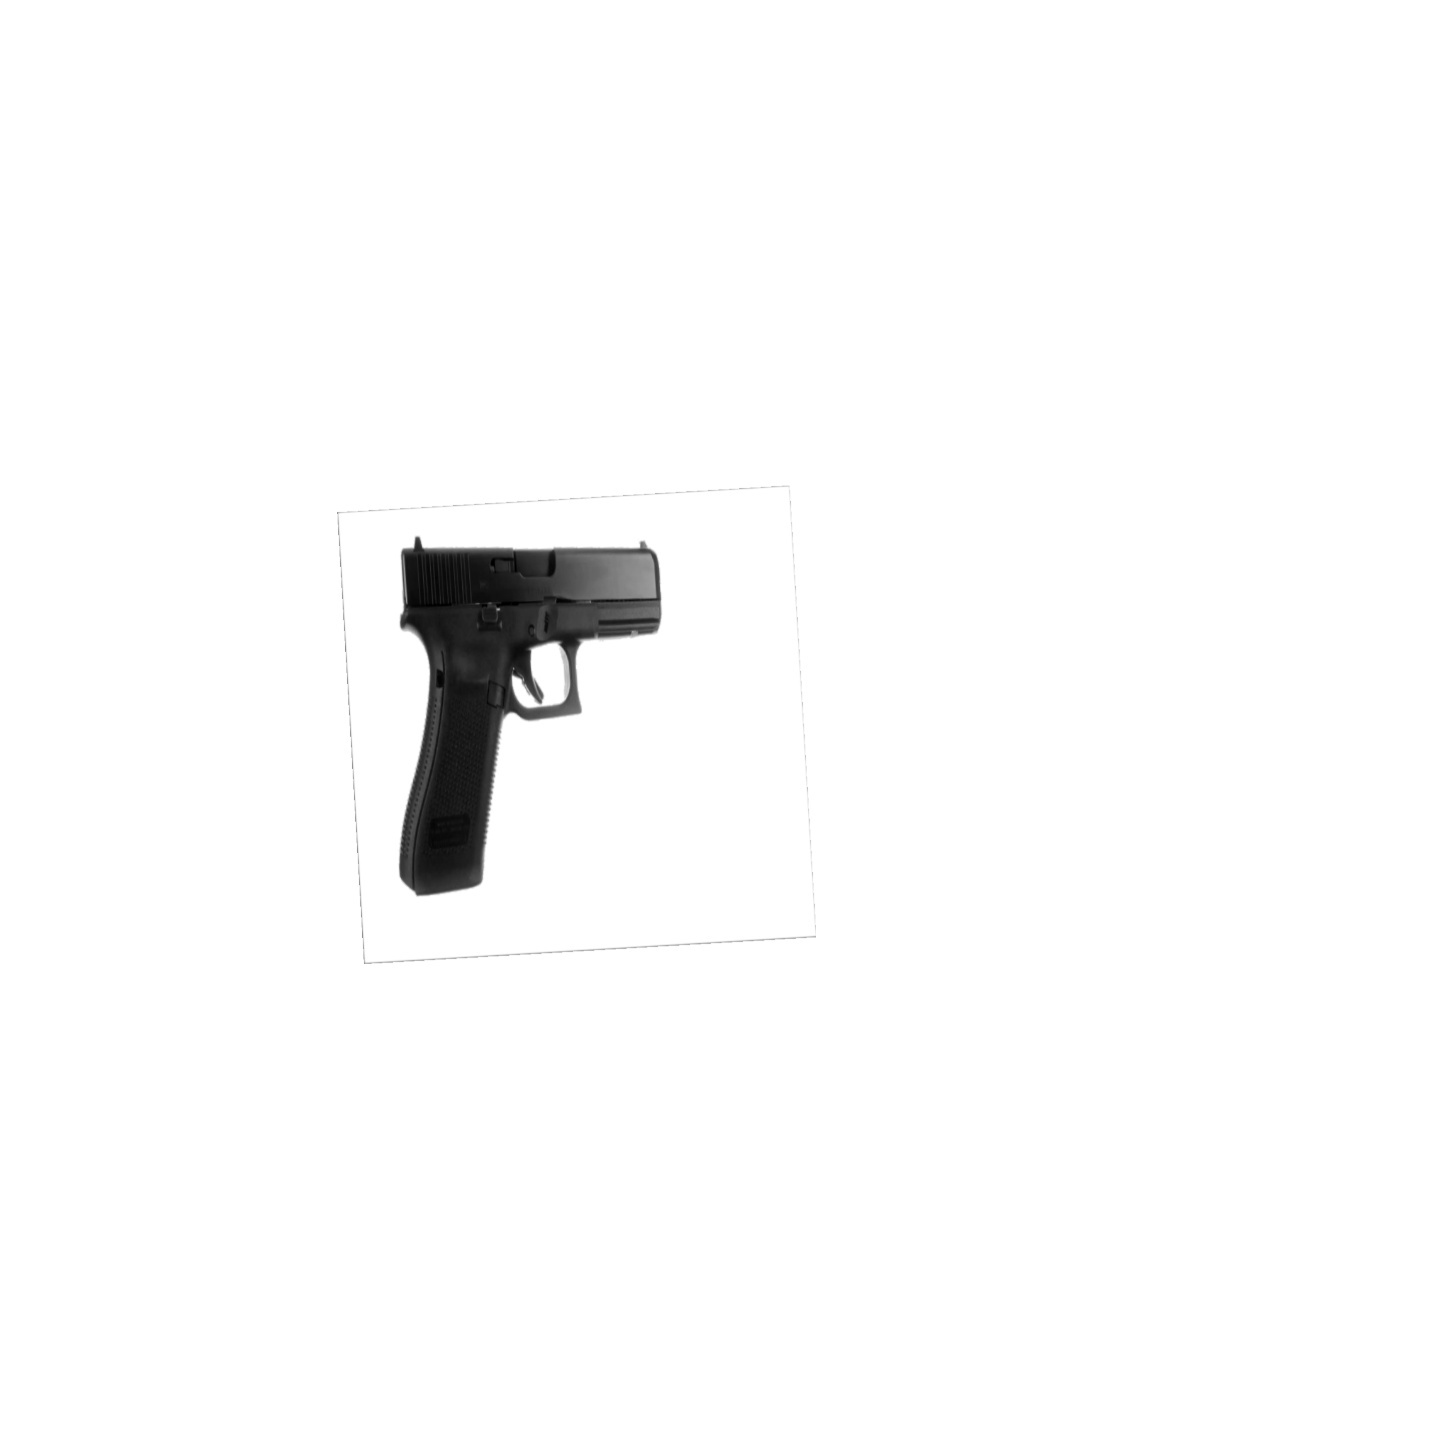gun: (388, 532, 672, 901)
